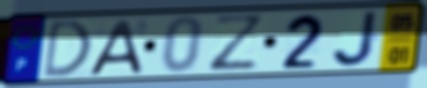0: (157, 14, 209, 76)
2: (278, 10, 327, 73)
A: (85, 18, 145, 77)
D: (40, 17, 94, 81)
J: (330, 9, 382, 69)
Z: (207, 13, 268, 74)
